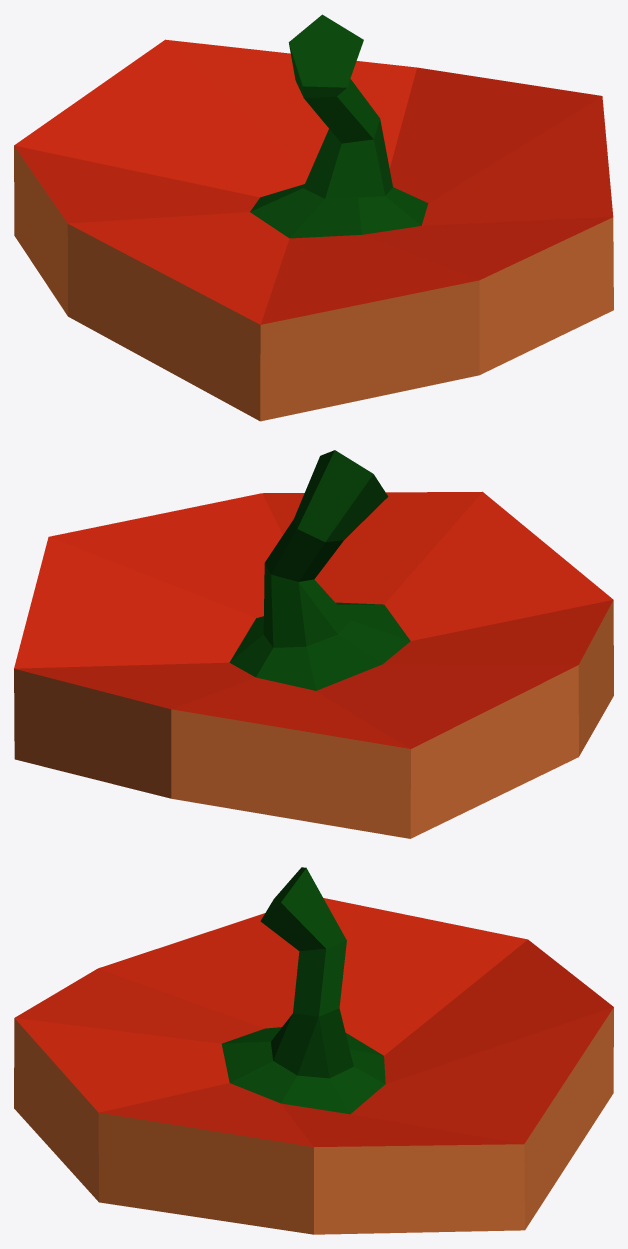
Rendered from PumpkinHead_Hat.fbx.
The picture shows the model from 3 angles, top to bottom: view 1: azimuth 30°, elevation 25°; view 2: azimuth 150°, elevation 25°; view 3: azimuth 270°, elevation 25°; orthographic projection. The views are drawn at different scales.
Parts seen in each view (by area): view 1: PumpkinHat; view 2: PumpkinHat; view 3: PumpkinHat.
Boxes of the visible parts, x1,y1,x2,y2 form: PumpkinHat: (14,14,613,421); PumpkinHat: (14,450,613,838); PumpkinHat: (14,867,613,1234).
Bounding box in the file's own units: 58.75 × 36.23 × 59.84.
